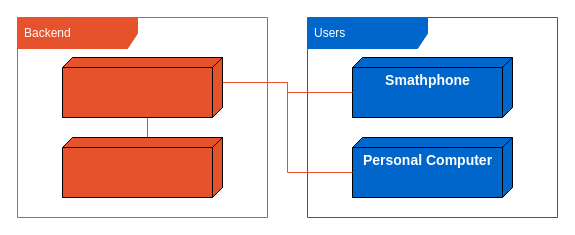
This 575x235 diagram has some shape labels left out. The shapes that lost their labels are listed below. From the top down, each one's centre as x and y in pixels, then its label:
At (142,87): "System Server".
At (142,167): "Network Server".
